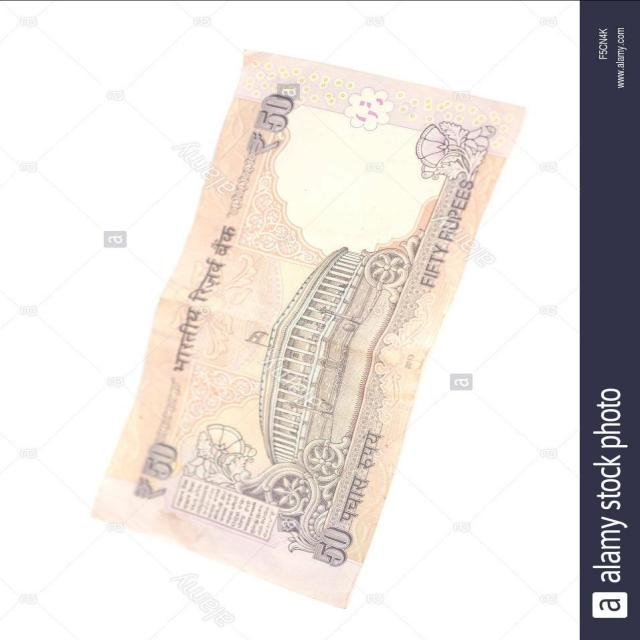50IndianRupees: (94, 46, 516, 606)
